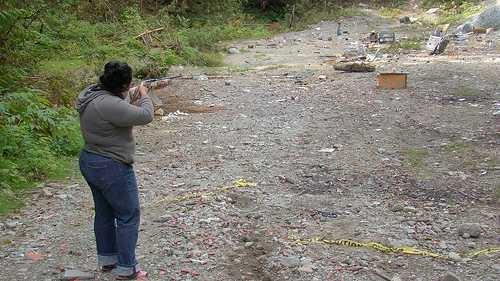person: (75, 61, 153, 280)
rifle: (139, 73, 182, 95)
